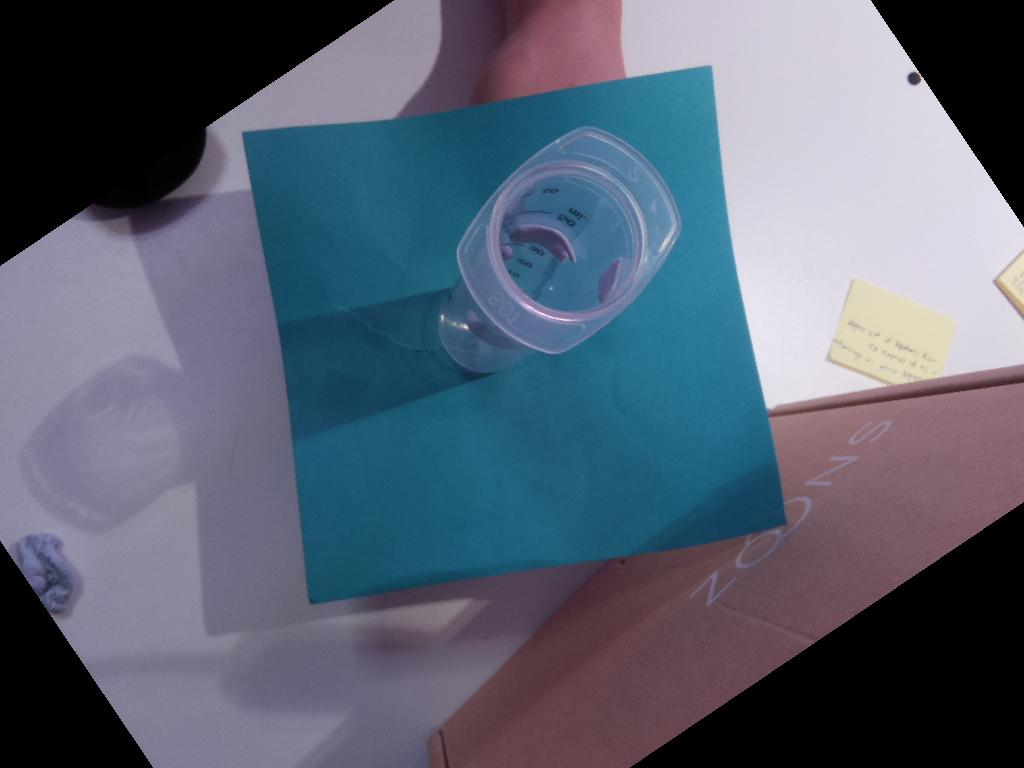dirty: (457, 127, 682, 355)
